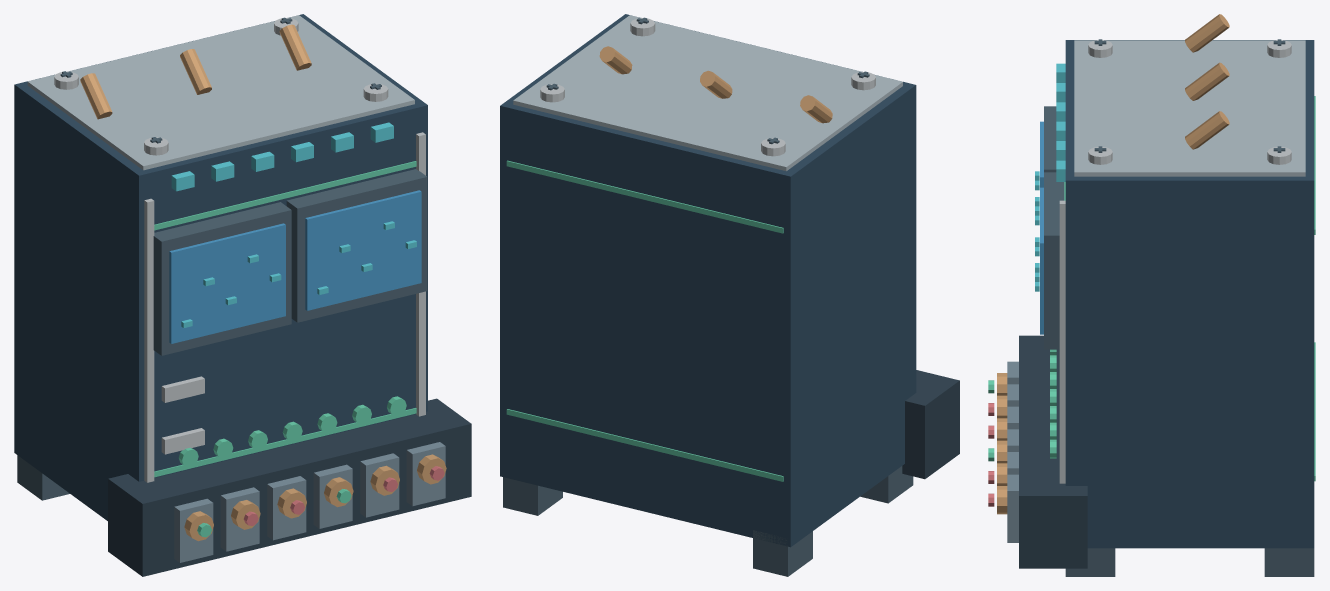
File: 61_L77_Regulated5VControlSupply.glb
The picture shows the model from 3 angles, left to right: view 1: azimuth 30°, elevation 25°; view 2: azimuth 150°, elevation 25°; view 3: azimuth 270°, elevation 25°; orthographic projection.
Parts seen in each view (by area): view 1: Regulated5VControlSupply_Node_0000, Regulated5VControlSupply_Node_0007, Regulated5VControlSupply_Node_0049, Regulated5VControlSupply_Node_0032, Regulated5VControlSupply_Node_0025, Regulated5VControlSupply_Node_0024, Regulated5VControlSupply_Node_0031, Regulated5VControlSupply_Node_0005, Regulated5VControlSupply_Node_0023, Regulated5VControlSupply_Node_0053, Regulated5VControlSupply_Node_0050, Regulated5VControlSupply_Node_0059 (+11 smaller); view 2: Regulated5VControlSupply_Node_0000, Regulated5VControlSupply_Node_0007, Regulated5VControlSupply_Node_0049, Regulated5VControlSupply_Node_0045, Regulated5VControlSupply_Node_0020, Regulated5VControlSupply_Node_0022, Regulated5VControlSupply_Node_0047, Regulated5VControlSupply_Node_0046; view 3: Regulated5VControlSupply_Node_0000, Regulated5VControlSupply_Node_0007, Regulated5VControlSupply_Node_0049, Regulated5VControlSupply_Node_0031, Regulated5VControlSupply_Node_0006, Regulated5VControlSupply_Node_0047, Regulated5VControlSupply_Node_0048, Regulated5VControlSupply_Node_0024, Regulated5VControlSupply_Node_0065, Regulated5VControlSupply_Node_0073, Regulated5VControlSupply_Node_0075, Regulated5VControlSupply_Node_0074 (+1 smaller).
Boxes of the visible parts, bbox=[...] form: Regulated5VControlSupply_Node_0000: bbox=[14, 14, 427, 520]; Regulated5VControlSupply_Node_0007: bbox=[27, 15, 414, 170]; Regulated5VControlSupply_Node_0049: bbox=[108, 398, 471, 576]; Regulated5VControlSupply_Node_0032: bbox=[305, 190, 421, 310]; Regulated5VControlSupply_Node_0025: bbox=[169, 223, 285, 343]; Regulated5VControlSupply_Node_0024: bbox=[153, 202, 291, 355]; Regulated5VControlSupply_Node_0031: bbox=[286, 169, 427, 322]; Regulated5VControlSupply_Node_0005: bbox=[144, 198, 154, 482]; Regulated5VControlSupply_Node_0023: bbox=[154, 161, 416, 230]; Regulated5VControlSupply_Node_0053: bbox=[220, 487, 259, 551]; Regulated5VControlSupply_Node_0050: bbox=[174, 498, 213, 562]; Regulated5VControlSupply_Node_0059: bbox=[313, 464, 352, 528]; Regulated5VControlSupply_Node_0000: bbox=[500, 14, 916, 547]; Regulated5VControlSupply_Node_0007: bbox=[513, 15, 902, 171]; Regulated5VControlSupply_Node_0049: bbox=[902, 370, 959, 479]; Regulated5VControlSupply_Node_0045: bbox=[753, 530, 812, 576]; Regulated5VControlSupply_Node_0020: bbox=[506, 409, 783, 481]; Regulated5VControlSupply_Node_0022: bbox=[506, 160, 783, 233]; Regulated5VControlSupply_Node_0047: bbox=[503, 477, 562, 515]; Regulated5VControlSupply_Node_0046: bbox=[860, 466, 913, 503]; Regulated5VControlSupply_Node_0000: bbox=[1065, 40, 1314, 548]; Regulated5VControlSupply_Node_0007: bbox=[1074, 40, 1305, 176]; Regulated5VControlSupply_Node_0049: bbox=[1019, 335, 1087, 568]; Regulated5VControlSupply_Node_0031: bbox=[1044, 172, 1064, 349]; Regulated5VControlSupply_Node_0006: bbox=[1059, 200, 1065, 483]; Regulated5VControlSupply_Node_0047: bbox=[1264, 548, 1314, 576]; Regulated5VControlSupply_Node_0048: bbox=[1065, 548, 1115, 576]; Regulated5VControlSupply_Node_0024: bbox=[1044, 106, 1056, 172]; Regulated5VControlSupply_Node_0065: bbox=[1007, 474, 1018, 542]; Regulated5VControlSupply_Node_0073: bbox=[1185, 14, 1229, 52]; Regulated5VControlSupply_Node_0075: bbox=[1185, 111, 1229, 149]; Regulated5VControlSupply_Node_0074: bbox=[1185, 62, 1229, 100].
Bounding box in the file's own units: 0.99 × 1.26 × 0.856.
